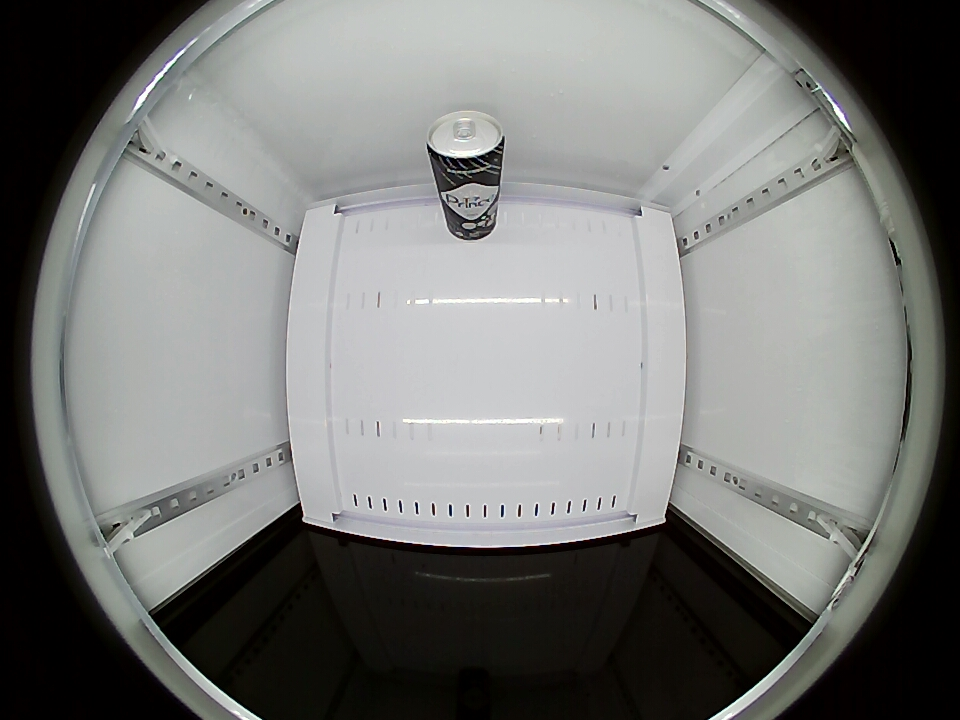qingdaowangzi-1: (426, 110, 506, 182)
